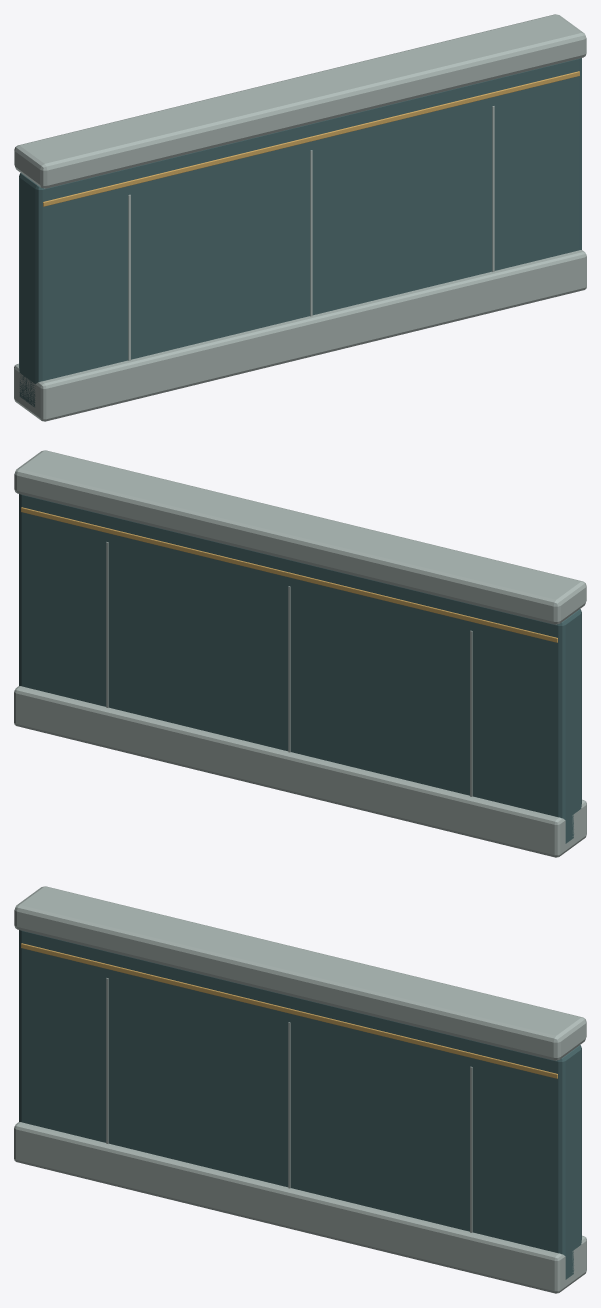
The model's file is wall.glb.
3 renders of one model, top to bottom at view 1: azimuth 30°, elevation 25°; view 2: azimuth 150°, elevation 25°; view 3: azimuth 330°, elevation 25°, orthographic.
Parts seen in each view (by area): view 1: wall; view 2: wall; view 3: wall.
Boxes of the visible parts, bbox=[...] form: wall: bbox=[14, 14, 586, 421]; wall: bbox=[14, 450, 586, 857]; wall: bbox=[14, 886, 586, 1293].
Bounding box in the file's own units: 3 × 1.35 × 0.29.
